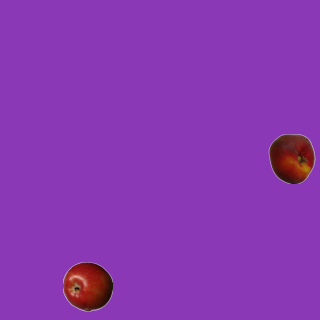Apple Braeburn: (62, 261, 112, 311)
Nectarine Flat: (266, 133, 316, 183)
